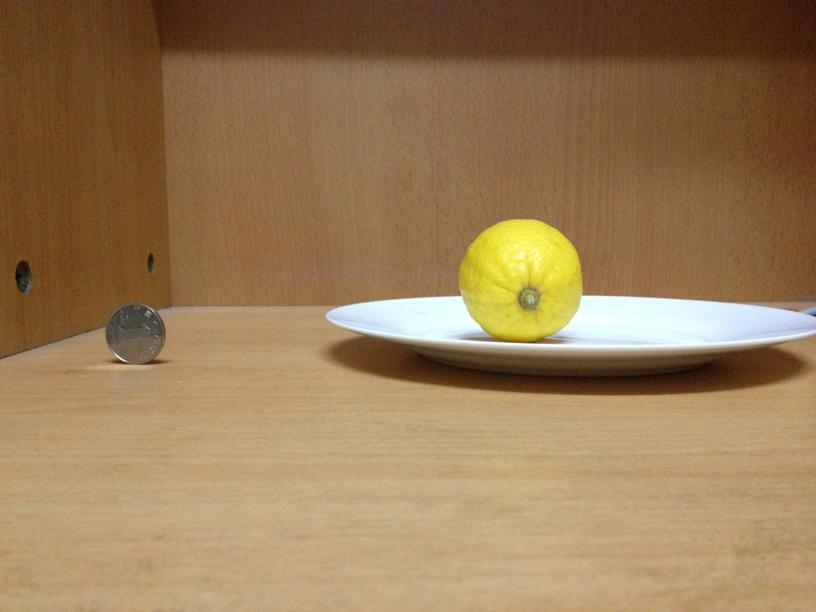coin: (105, 301, 164, 362)
lemon: (460, 216, 583, 341)
